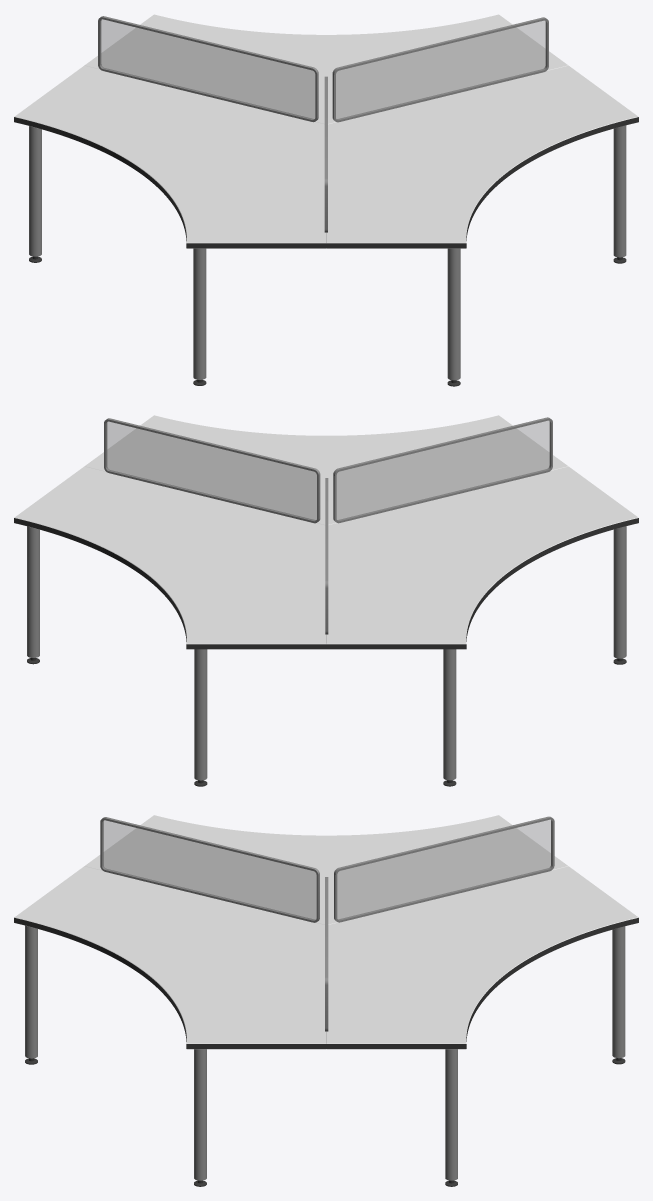
The model's file is Table 1.FBX.
3 views of the same model, one above another, from view 1: azimuth 30°, elevation 25°; view 2: azimuth 150°, elevation 25°; view 3: azimuth 270°, elevation 25° (orthographic).
Visible parts, largest first — view 1: Table 1; view 2: Table 1; view 3: Table 1.
Part boxes in pixels (x1=…): Table 1: x1=14, y1=14, x2=638, y2=386; Table 1: x1=14, y1=415, x2=638, y2=786; Table 1: x1=14, y1=815, x2=638, y2=1186.
Size of the model in its own units: 252 by 103 by 291.
4 materials, 2 textured.
